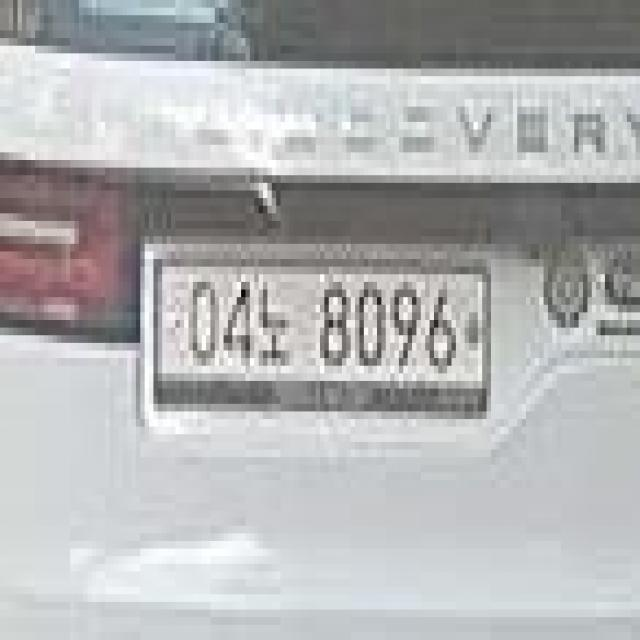illegal_plate: (148, 245, 497, 422)
